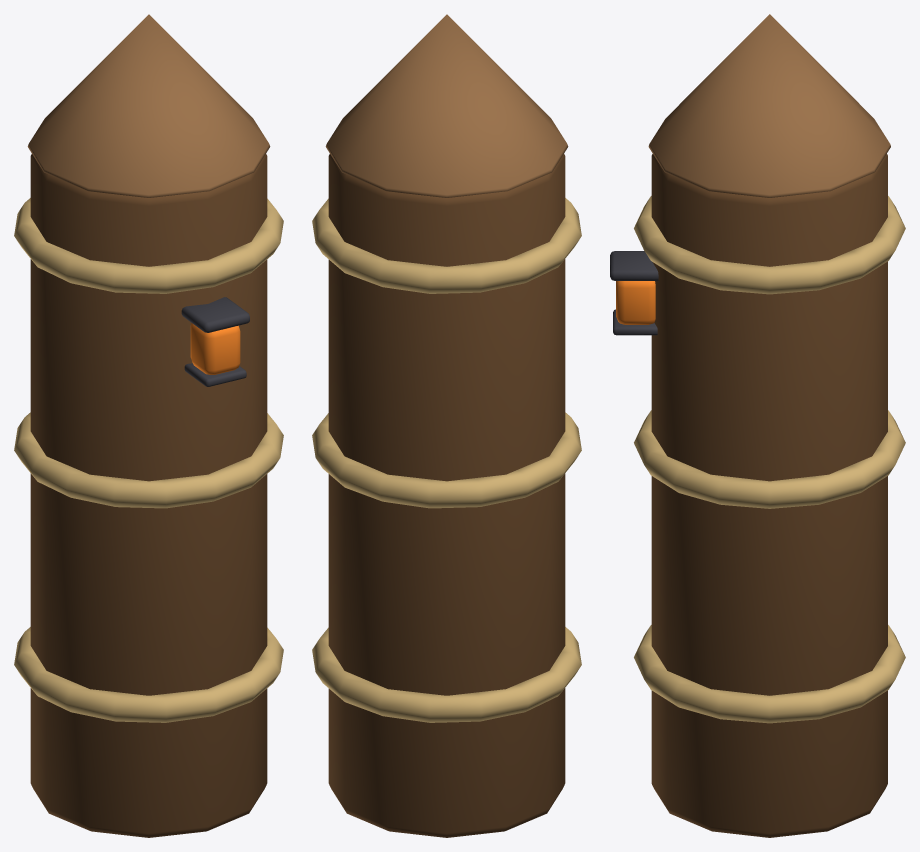
The model's file is WallCorner.glb.
The picture shows the model from 3 angles, left to right: view 1: azimuth 30°, elevation 25°; view 2: azimuth 150°, elevation 25°; view 3: azimuth 270°, elevation 25°; orthographic projection.
Parts seen in each view (by area): view 1: WallCorner; view 2: WallCorner; view 3: WallCorner.
Part boxes in pixels (x1,y1,x2,y2): WallCorner: (14,14,283,837); WallCorner: (312,14,581,837); WallCorner: (610,14,905,837).
Bounding box in the file's own units: 0.92 × 2.9 × 1.
